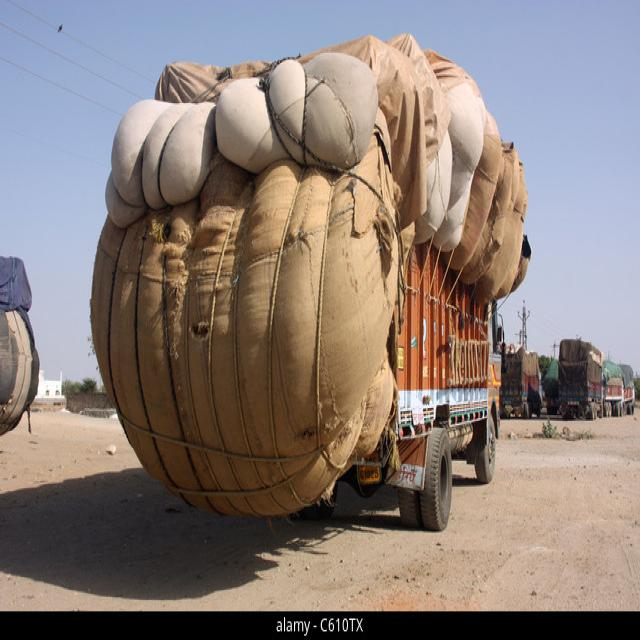goods: (90, 33, 528, 520)
truck: (395, 242, 501, 528)
